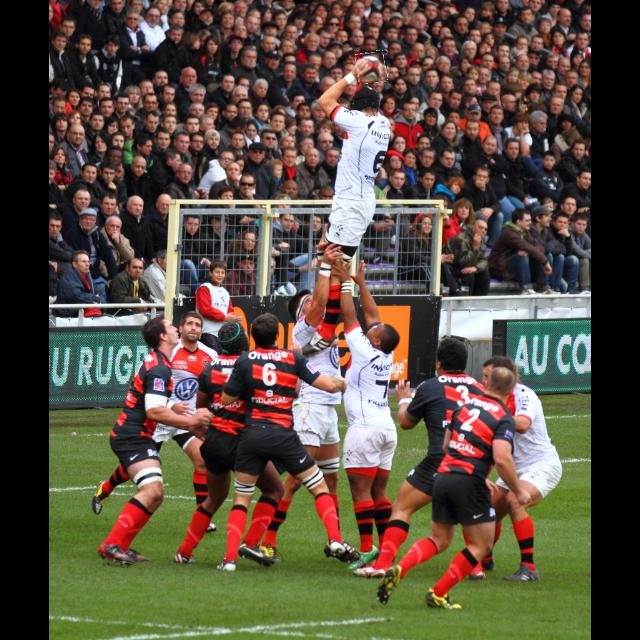Football: (357, 51, 387, 83)
